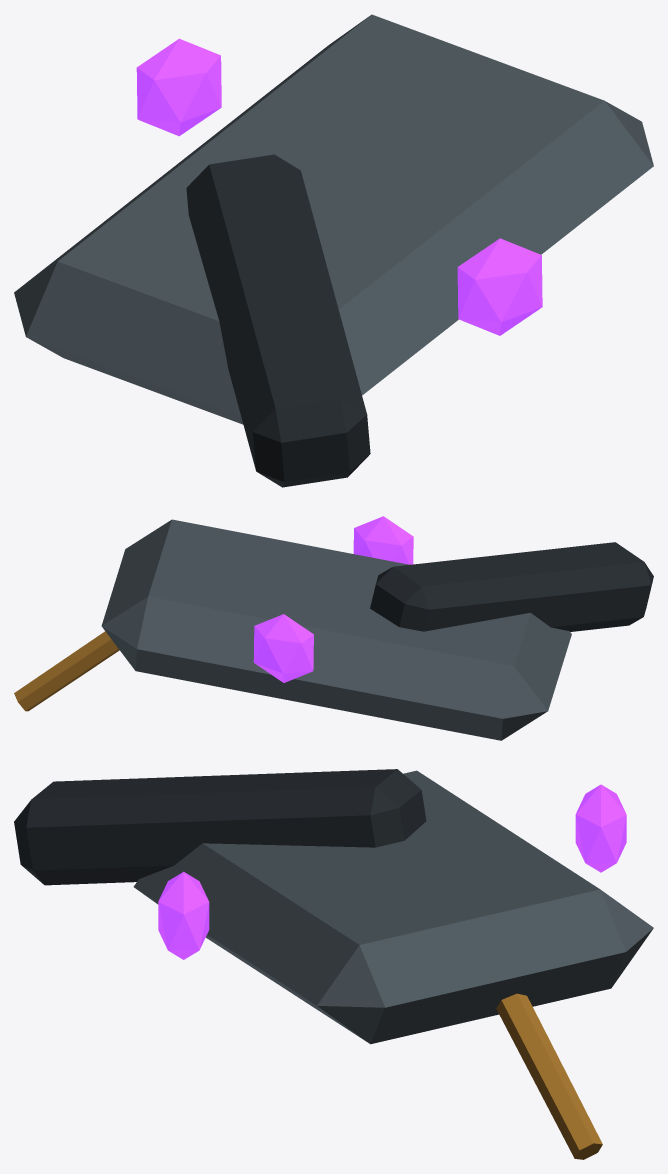
Rendered from pickup_salvage_fragment.glb.
The picture shows the model from 3 angles, top to bottom: view 1: azimuth 30°, elevation 25°; view 2: azimuth 150°, elevation 25°; view 3: azimuth 270°, elevation 25°; orthographic projection. The views are drawn at different scales.
Visible parts, largest first — view 1: Salvage_Plate, Salvage_Brace, Salvage_Node_2, Salvage_Node_3; view 2: Salvage_Plate, Salvage_Brace, Salvage_Node_2, Loose_Wire, Salvage_Node_3; view 3: Salvage_Plate, Salvage_Brace, Loose_Wire, Salvage_Node_2, Salvage_Node_3.
Part boxes in pixels (left/top/right/bottom): Salvage_Plate: left=14, top=14, right=653, bottom=424; Salvage_Brace: left=186, top=154, right=370, bottom=487; Salvage_Node_2: left=136, top=38, right=221, bottom=136; Salvage_Node_3: left=457, top=238, right=542, bottom=335; Salvage_Plate: left=101, top=519, right=571, bottom=740; Salvage_Brace: left=370, top=542, right=653, bottom=631; Salvage_Node_2: left=253, top=614, right=313, bottom=682; Loose_Wire: left=14, top=631, right=119, bottom=711; Salvage_Node_3: left=353, top=516, right=413, bottom=564; Salvage_Plate: left=133, top=770, right=653, bottom=1044; Salvage_Brace: left=14, top=769, right=426, bottom=885; Loose_Wire: left=496, top=993, right=602, bottom=1159; Salvage_Node_2: left=575, top=784, right=626, bottom=872; Salvage_Node_3: left=158, top=871, right=209, bottom=959.
Bounding box in the file's own units: 0.1814 × 0.0624 × 0.1706.
